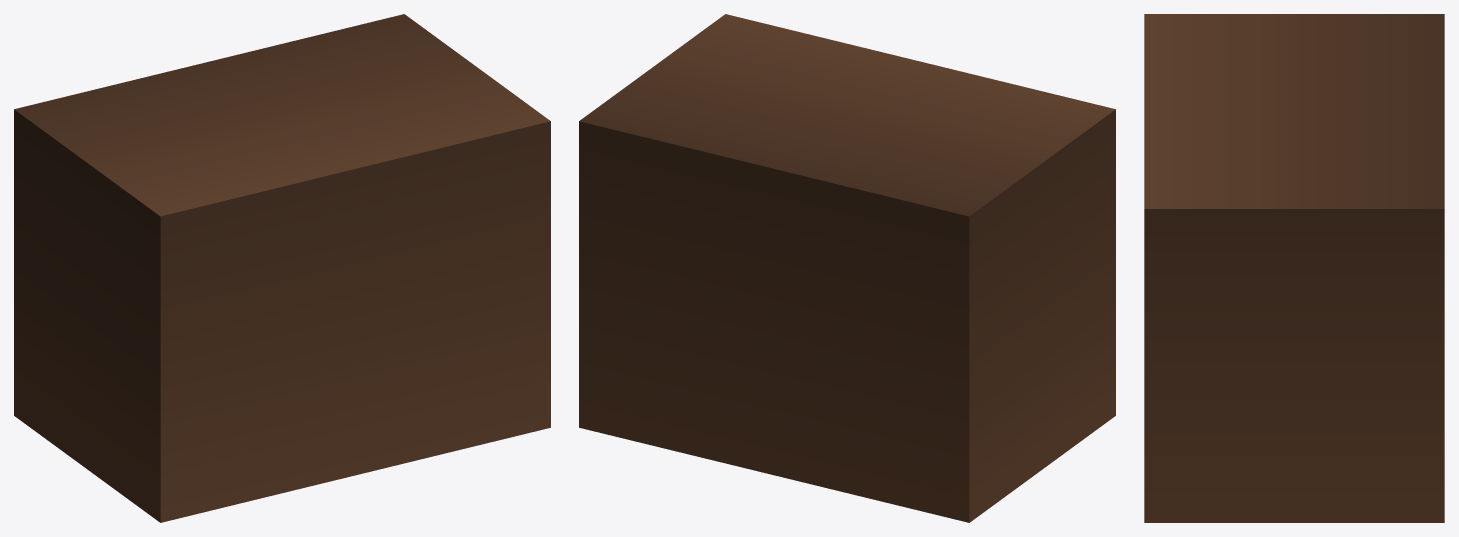
The model's file is PRP_Chest.glb.
3 views of the same model, side by side, from view 1: azimuth 30°, elevation 25°; view 2: azimuth 150°, elevation 25°; view 3: azimuth 270°, elevation 25° (orthographic). The views are drawn at different scales.
Parts seen in each view (by area): view 1: PRP_Chest; view 2: PRP_Chest; view 3: PRP_Chest.
Boxes of the visible parts, bbox=[...] form: PRP_Chest: bbox=[14, 14, 550, 522]; PRP_Chest: bbox=[579, 14, 1115, 522]; PRP_Chest: bbox=[1144, 14, 1444, 522].
Size of the model in its own units: 1 by 0.75 by 0.65.
Materials: 1 (1 with a texture image).
